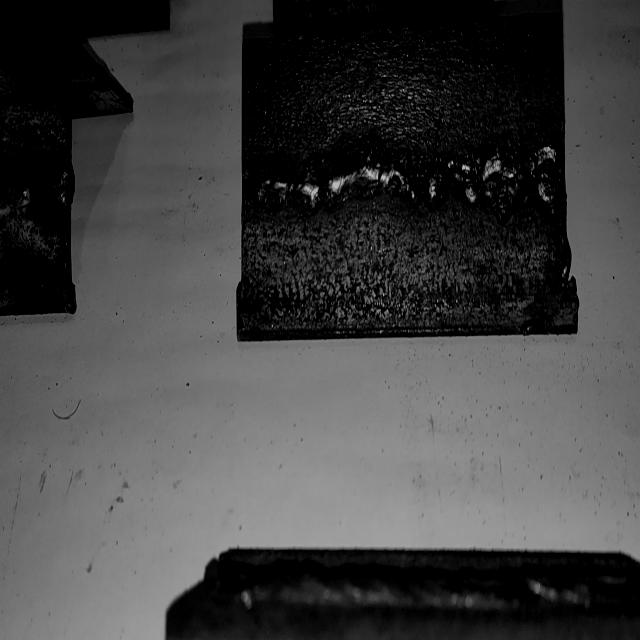Bad Weld: (244, 144, 566, 208)
Defect: (465, 125, 561, 226)
